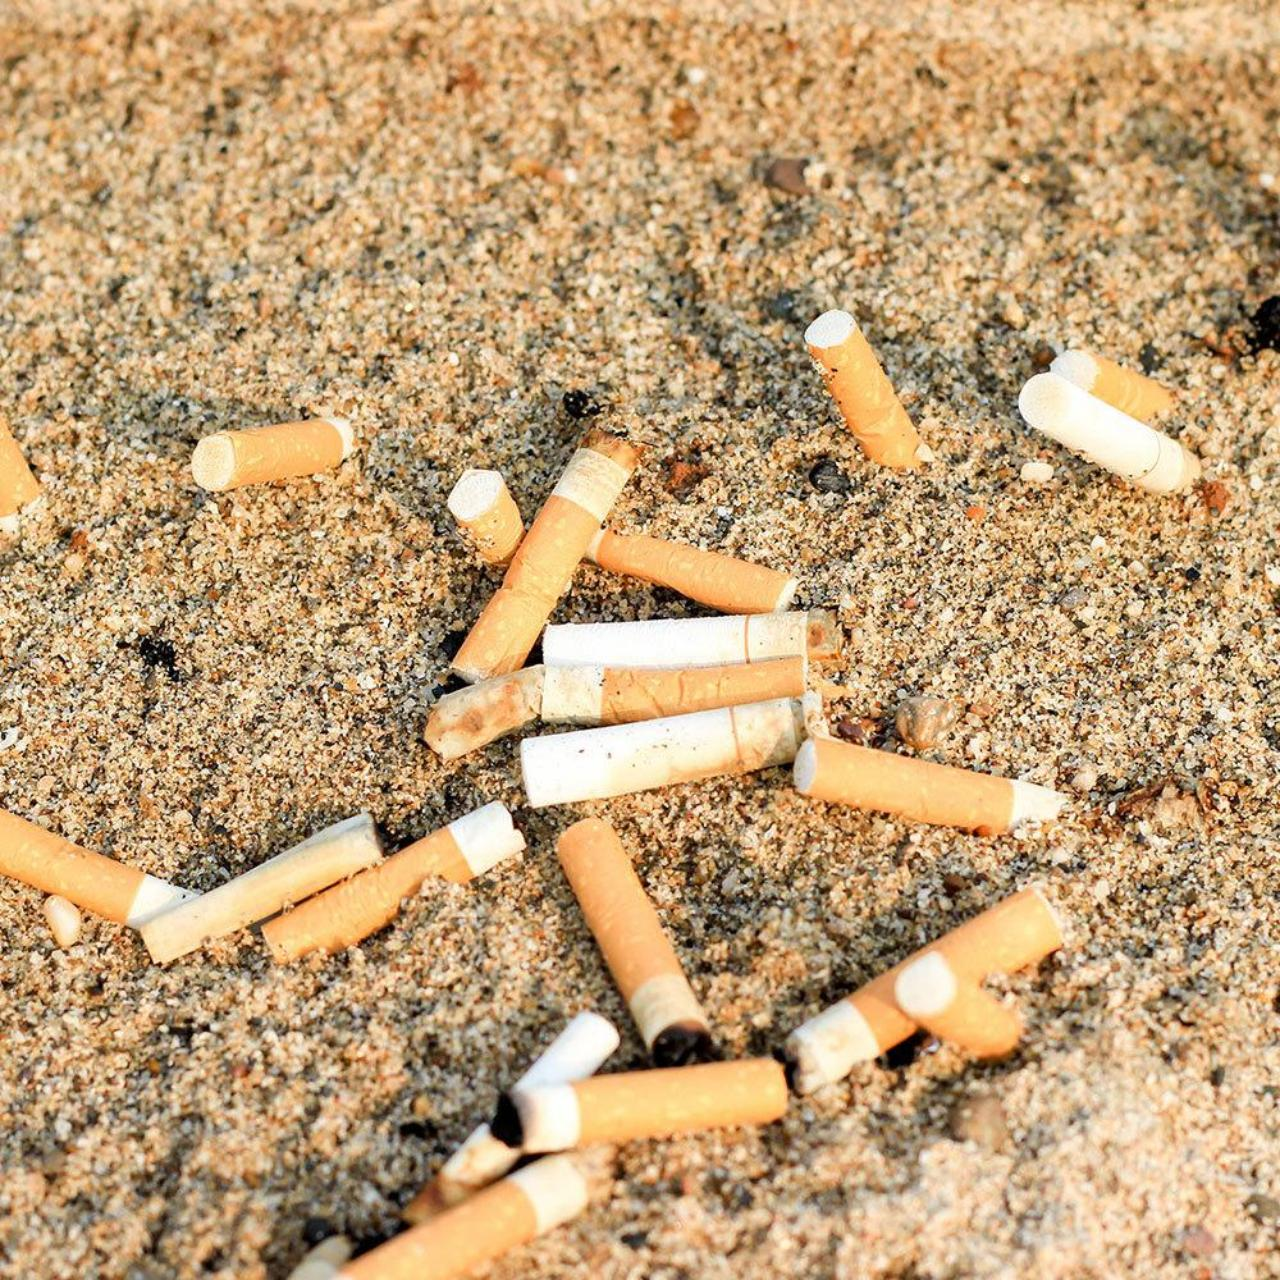cigarettes_butts: (784, 891, 1060, 1096), (450, 428, 645, 685), (260, 802, 527, 964), (557, 818, 726, 1069), (138, 812, 381, 965), (343, 1146, 618, 1280), (519, 692, 825, 809), (489, 1060, 790, 1153), (792, 736, 1068, 837), (0, 808, 198, 926), (1017, 373, 1201, 497), (804, 309, 934, 470), (584, 529, 797, 615), (544, 656, 806, 726), (544, 612, 844, 670), (894, 951, 1026, 1062), (192, 417, 356, 492), (402, 1125, 524, 1225), (427, 665, 545, 761), (1049, 349, 1178, 431), (448, 470, 526, 572), (515, 1015, 618, 1090), (0, 408, 41, 517)
